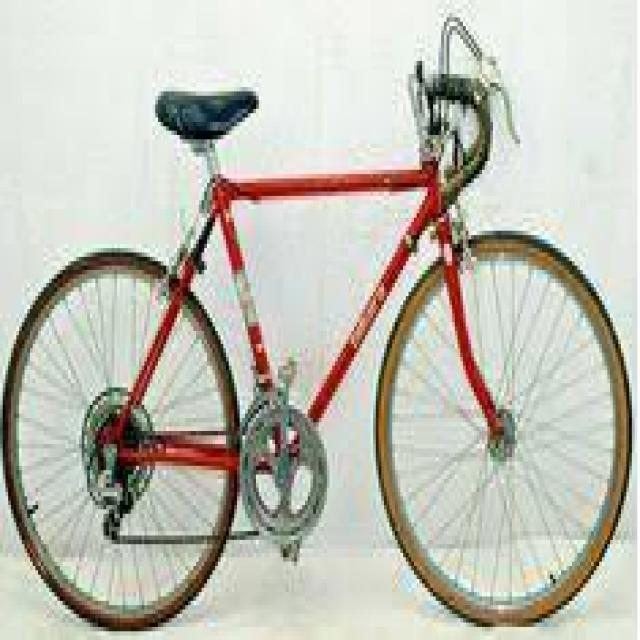bicycle: (15, 45, 625, 624)
